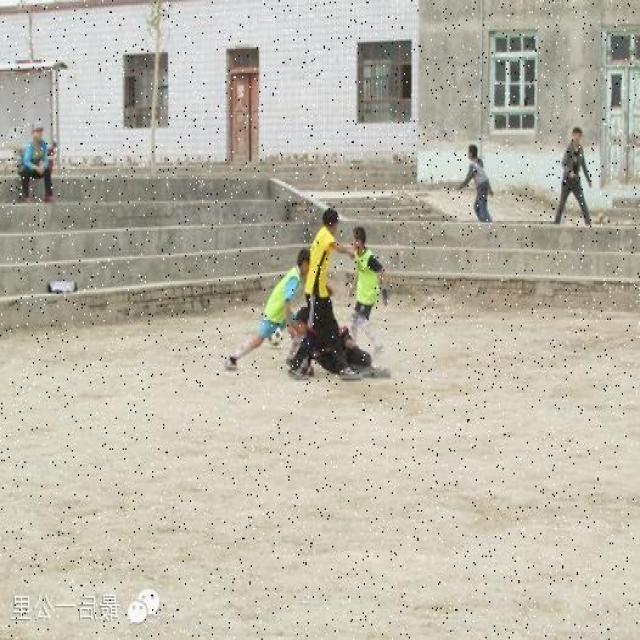fall: (297, 307, 390, 383)
